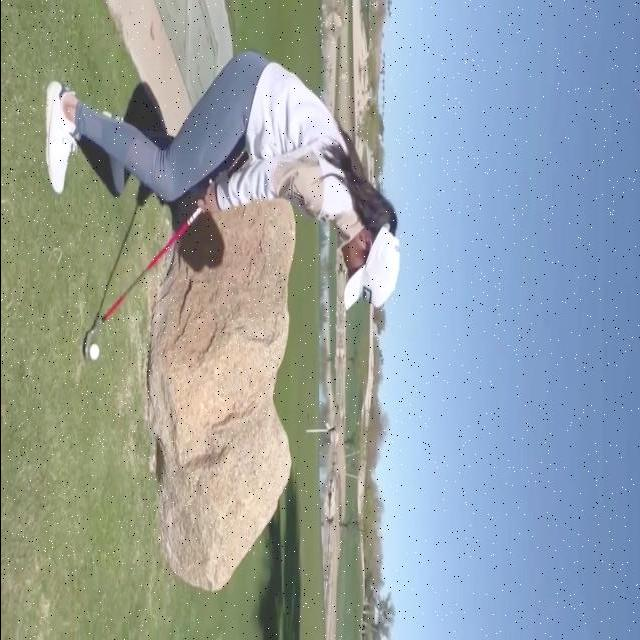golf ball: (88, 344, 98, 360)
golf club-handle: (82, 150, 249, 359)
golf club-head: (83, 331, 92, 359)
